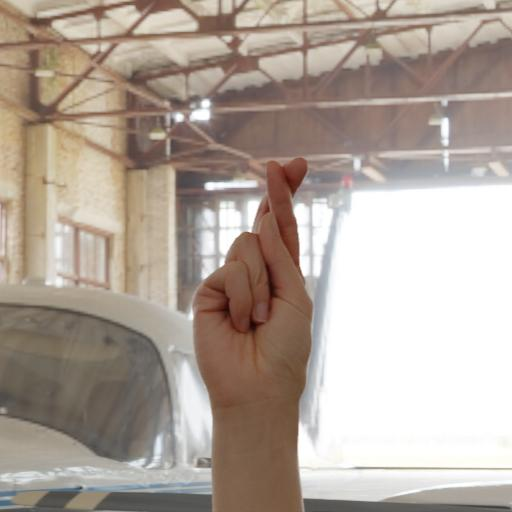R: (168, 150, 327, 512)
